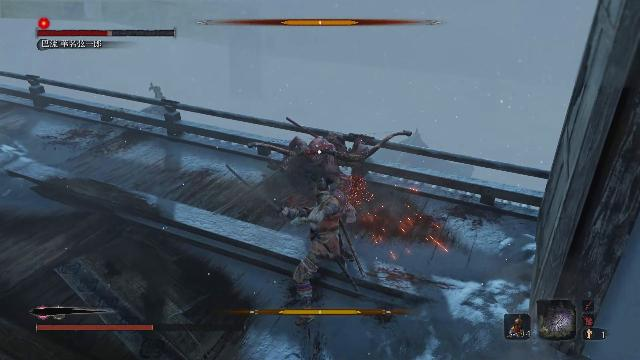sk: (277, 173, 353, 330)
